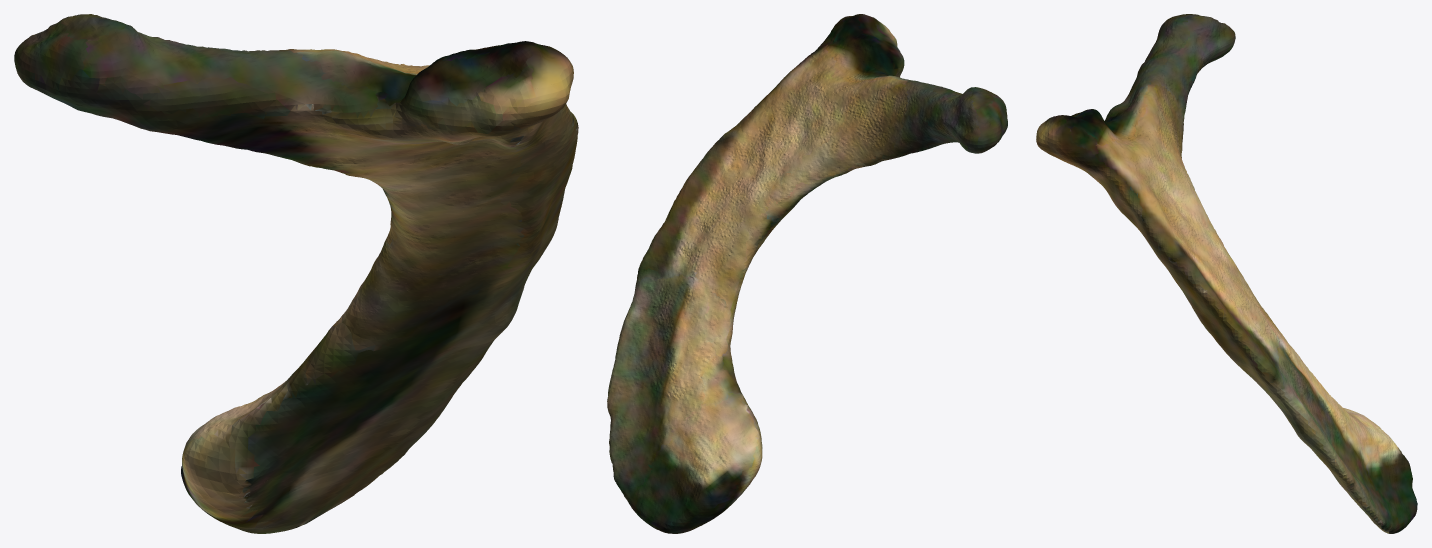
File: 2l_ribs.glb
The picture shows the model from 3 angles, left to right: view 1: azimuth 30°, elevation 25°; view 2: azimuth 150°, elevation 25°; view 3: azimuth 270°, elevation 25°; orthographic projection. The views are drawn at different scales.
Parts seen in each view (by area): view 1: Node; view 2: Node; view 3: Node.
Boxes of the visible parts, <box> form: Node: <box>14,14,578,533</box>; Node: <box>607,14,1007,533</box>; Node: <box>1036,14,1417,533</box>.
Bounding box in the file's own units: 19.2 × 22.87 × 19.38.
1 material, 1 textured.
